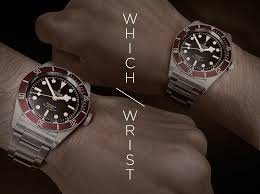clock: (26, 74, 84, 123), (179, 32, 225, 70)
